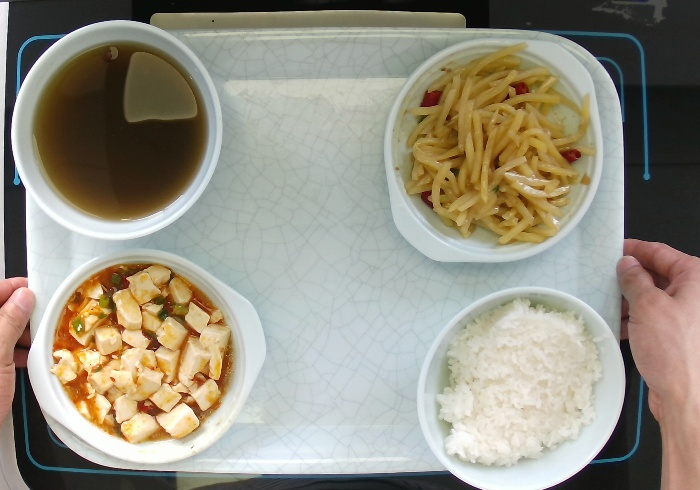JYsf-Fan_Wan: (9, 18, 224, 242), (414, 284, 628, 490)
JYsf-Shuang_Er_Pan: (25, 245, 268, 466), (382, 35, 605, 264)
